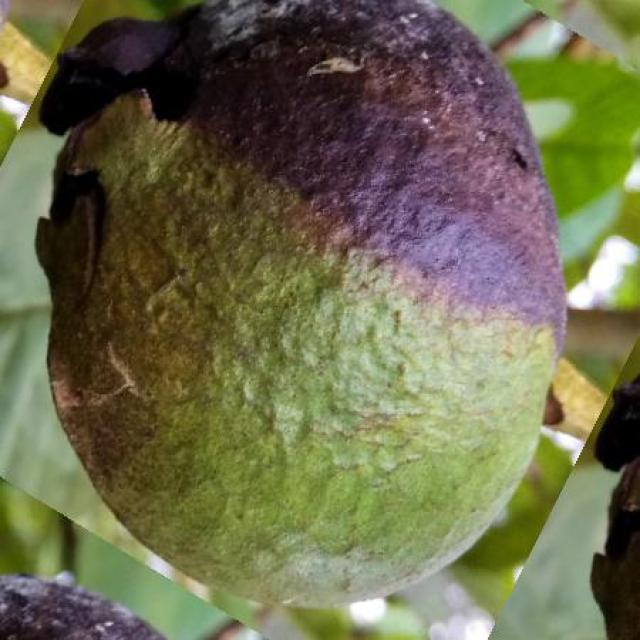Styler and Root: (36, 0, 566, 603)
